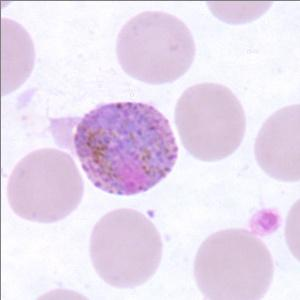Infected: (73, 100, 177, 197)
Uninfected: (86, 207, 163, 289), (115, 12, 195, 85), (7, 148, 86, 221), (194, 229, 274, 300), (173, 84, 244, 158)
